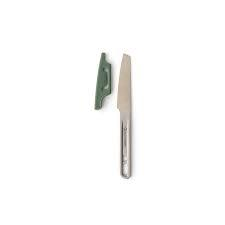Knife: (116, 53, 131, 178)
